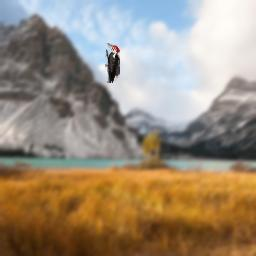Woodpecker: (105, 43, 120, 83)
